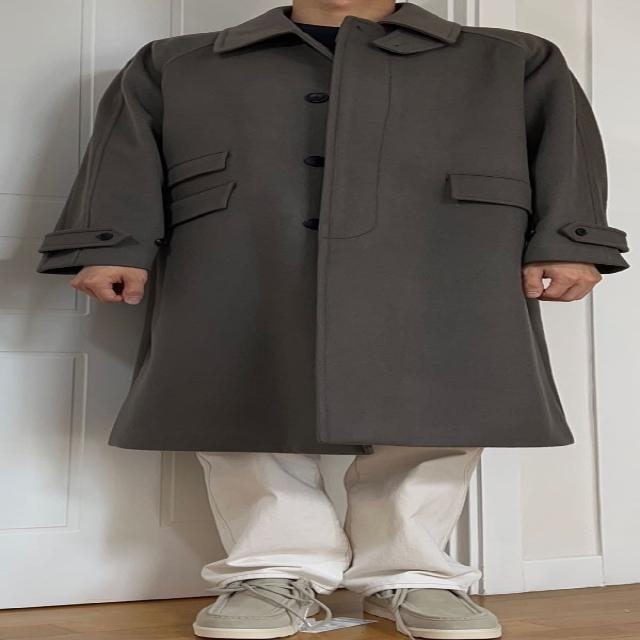coat: (38, 3, 638, 454), (188, 444, 484, 596)
